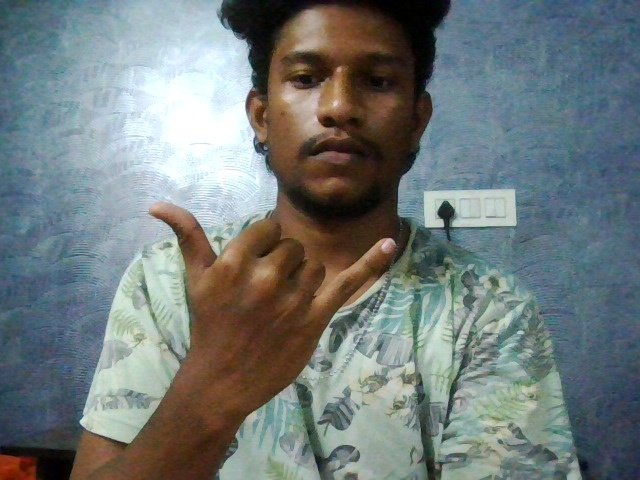good luck: (108, 157, 407, 446)
